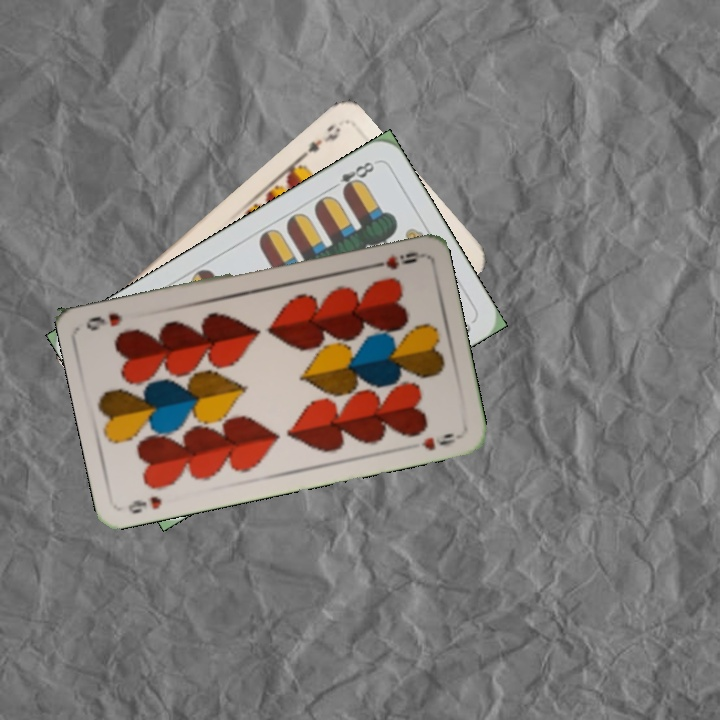E8: (325, 157, 377, 197)
E9: (295, 120, 344, 163)
H9: (365, 247, 424, 272), (124, 492, 164, 517)
